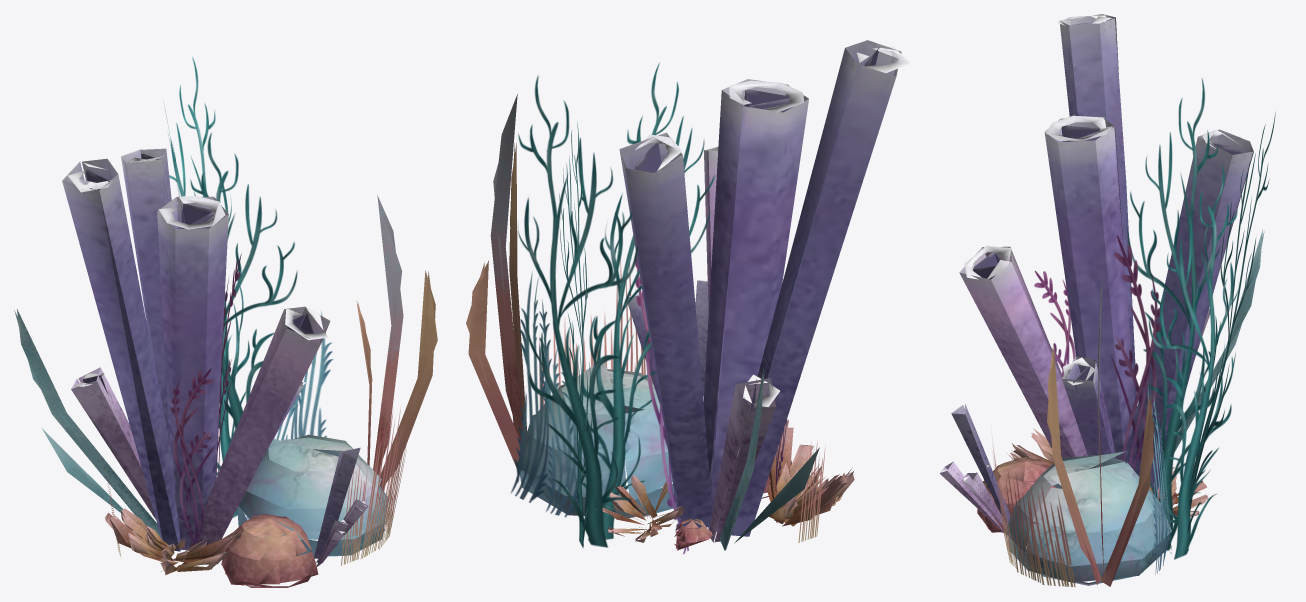
File: coral-peca.glb
3 views of the same model, side by side, from view 1: azimuth 30°, elevation 25°; view 2: azimuth 150°, elevation 25°; view 3: azimuth 270°, elevation 25° (orthographic). The views are drawn at different scales.
Parts seen in each view (by area): view 1: coral-peca; view 2: coral-peca; view 3: coral-peca.
Part boxes in pixels (x1,y1,x2,y2): coral-peca: (14,57,437,587); coral-peca: (466,40,910,554); coral-peca: (939,14,1275,587).
Bounding box in the file's own units: 1.23 × 1.6 × 1.04.
Materials: 2 (2 with a texture image).
